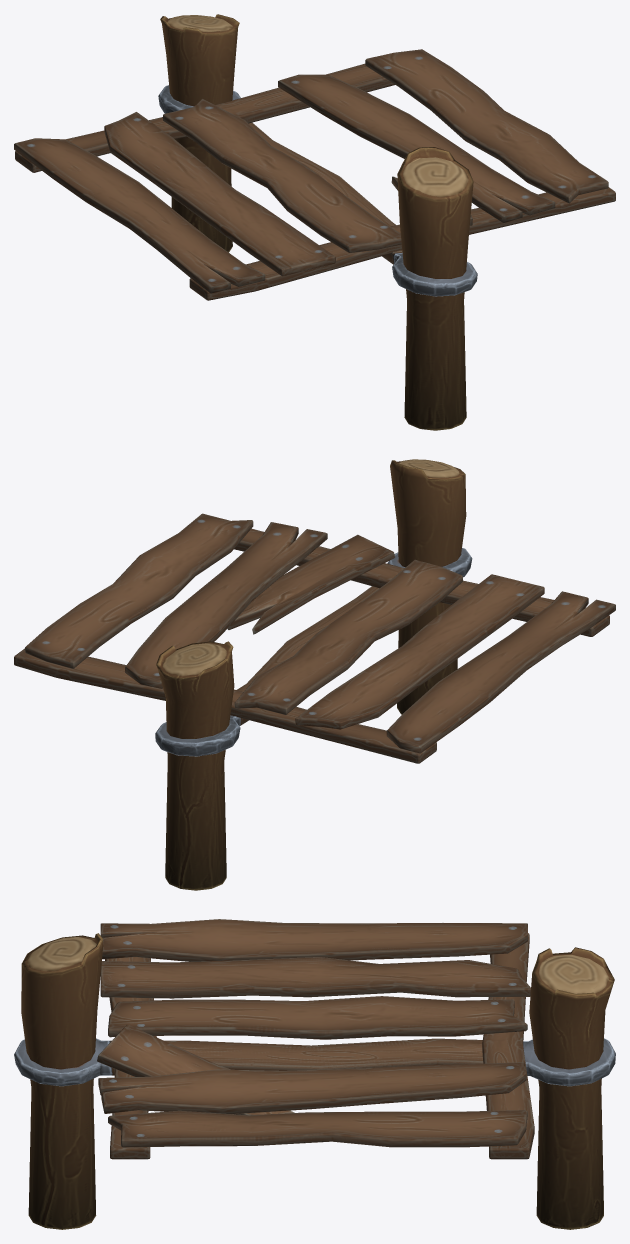
File: Decking1_LP.fbx
3 renders of one model, top to bottom at view 1: azimuth 30°, elevation 25°; view 2: azimuth 150°, elevation 25°; view 3: azimuth 270°, elevation 25°, orthographic. The views are drawn at different scales.
Visible parts, largest first — view 1: Posts_LP; view 2: Posts_LP; view 3: Posts_LP.
Boxes of the visible parts, left/top/right/bottom form: Posts_LP: left=14, top=14, right=615, bottom=430; Posts_LP: left=14, top=459, right=615, bottom=890; Posts_LP: left=14, top=919, right=615, bottom=1229.
Size of the model in its own units: 37.52 by 22.31 by 43.79.
